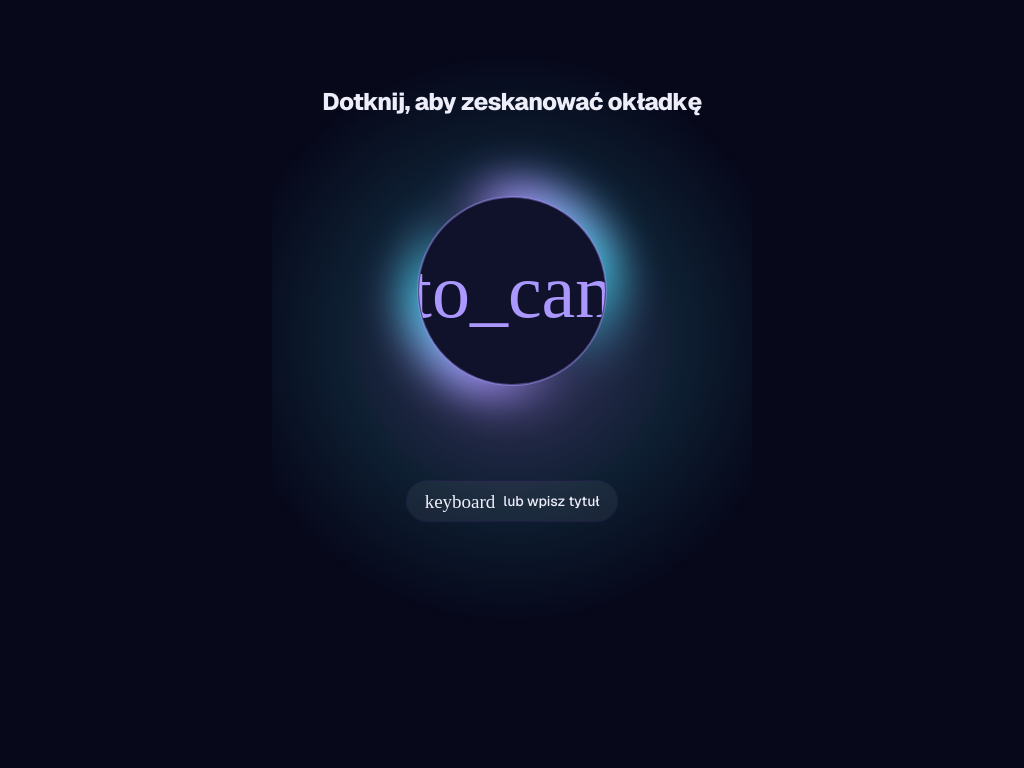
Scenario: AddScreen › lists up to 5 catalog results for a typed title
Click the button "lub wpisz tytuł".
click(512, 501)  # box [406, 480, 618, 522]
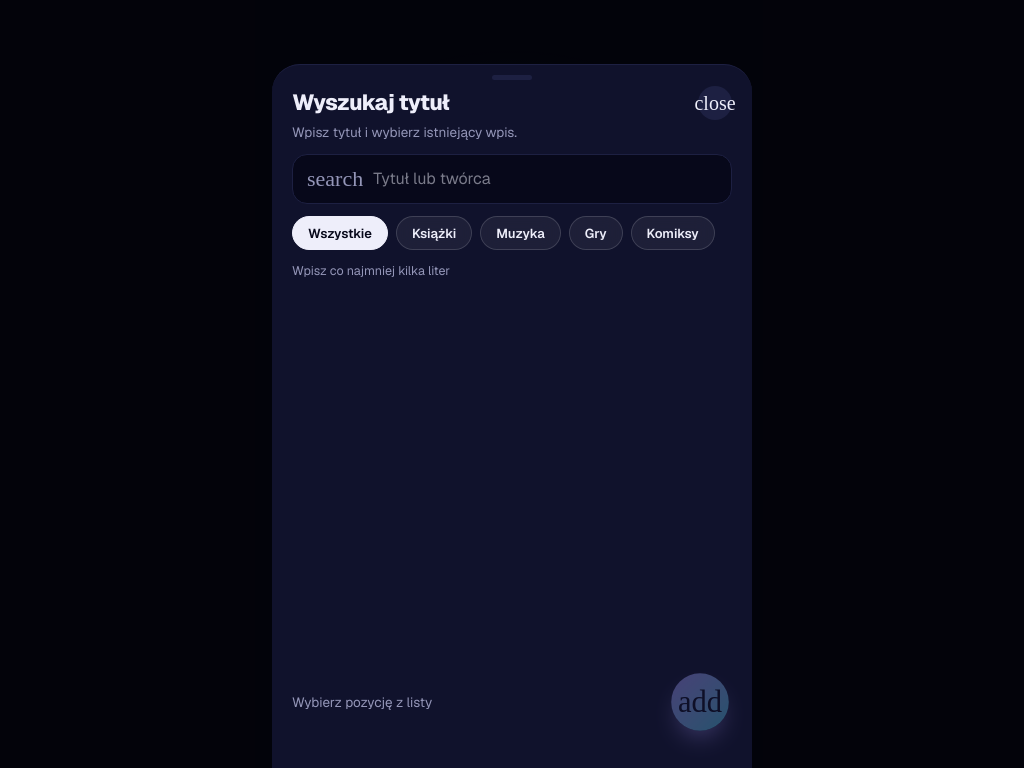
Type "pink" into the search field labelled "Tytuł lub twórca".
click(545, 179); type("pink")  # box [373, 167, 717, 191]
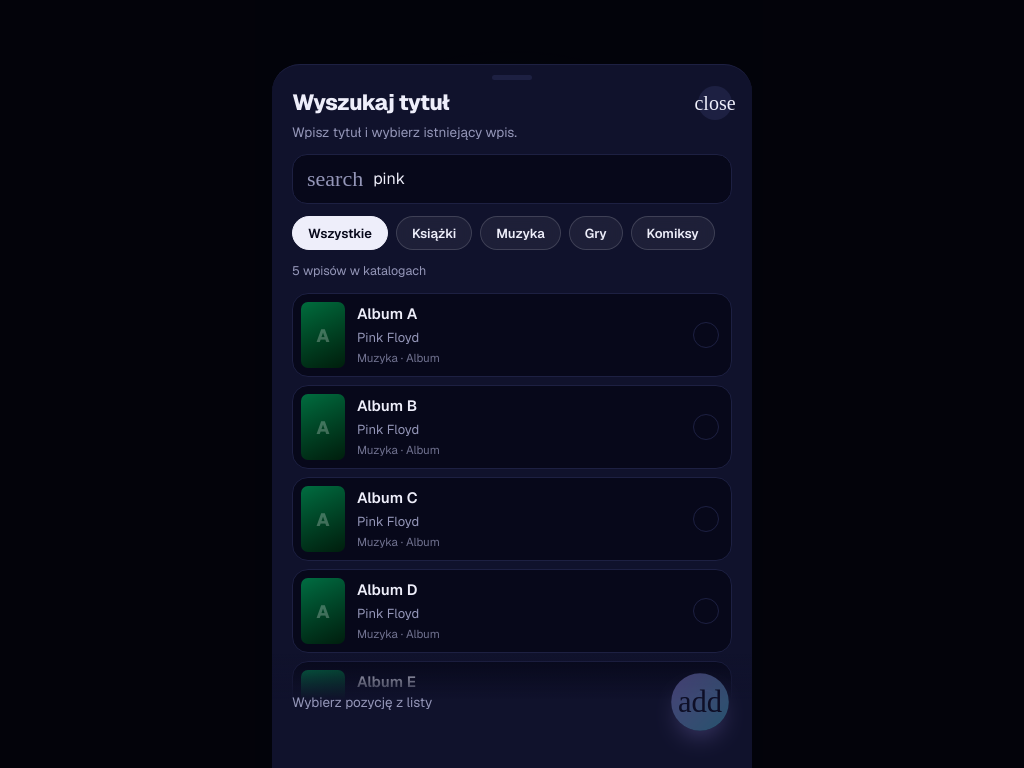
Result: the button "A Album E Pink Floyd Muzyka · Album" is shown at [292, 661, 732, 745]
Result: the number of buttons "A Album A Pink Floyd Muzyka · Album" is 5 at [292, 293, 732, 377]; [292, 385, 732, 469]; [292, 477, 732, 561]; [292, 569, 732, 653]; [292, 661, 732, 745]
Result: the text "5 wpisów w katalogach" is shown at [292, 262, 426, 279]
